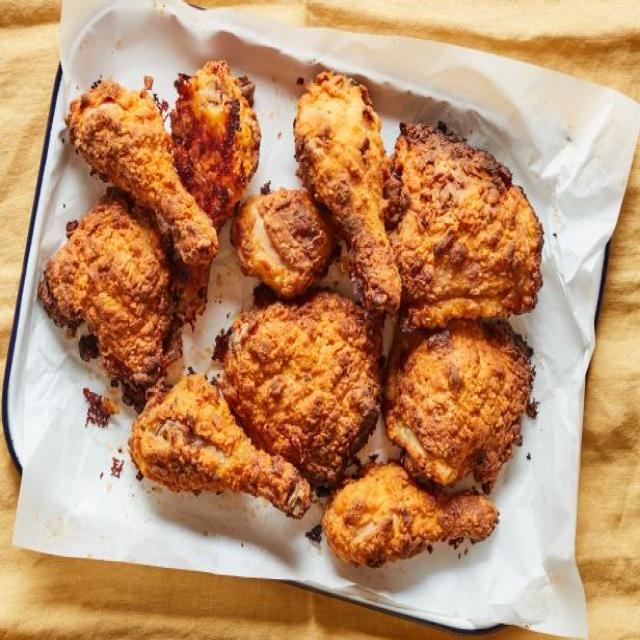Frango: (39, 53, 546, 569)
